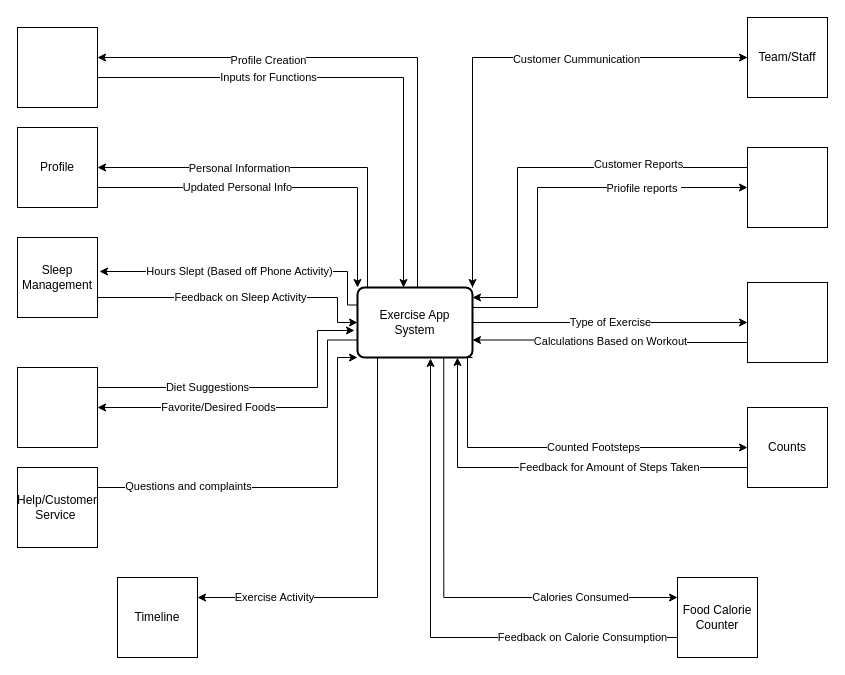
Image size: 845x675. Some labels were removed from this diagram. Here are the shapes that lost their labels. From the top down, the box of each, then its label:
(16, 26, 98, 108): Customer
(746, 146, 828, 228): Management
(746, 282, 828, 362): Record Exercise Activity
(16, 366, 98, 448): Food Suggestions
